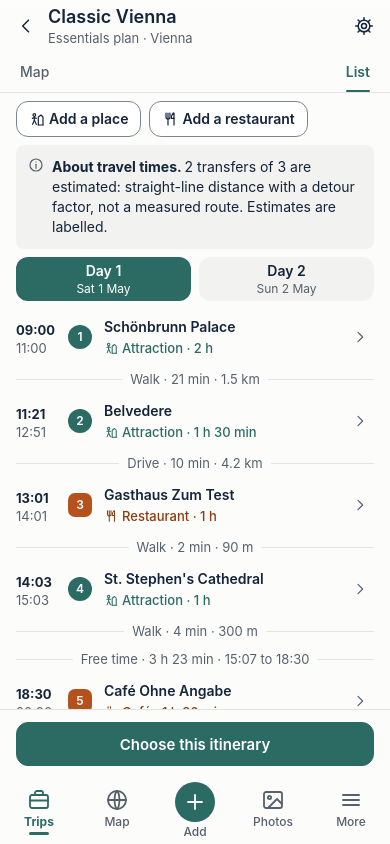
Scenario: Select chooses this plan from the day list too
Click the button with aria-label "Select the Essentials plan" at point(195, 744), box [16,722,374,766]
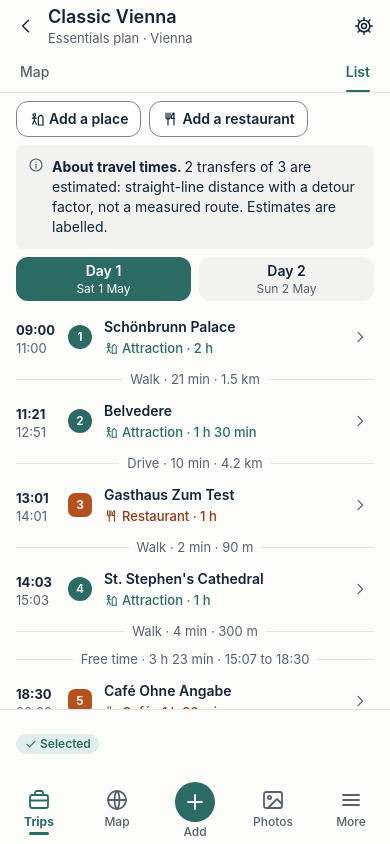
Check: the text "Selected" is shown, box [40,736,91,752]
